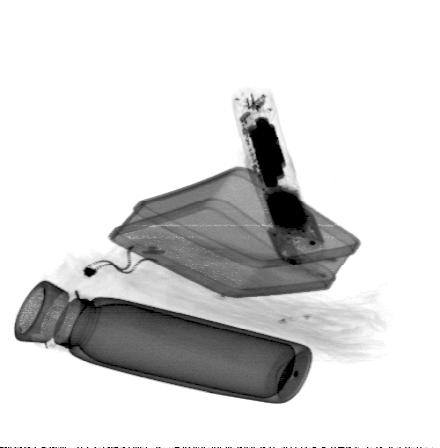Baton: (228, 83, 328, 269)
